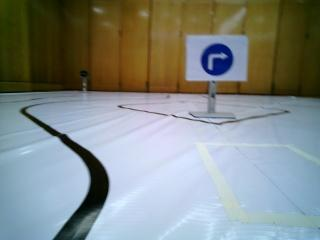right: (188, 34, 245, 79)
